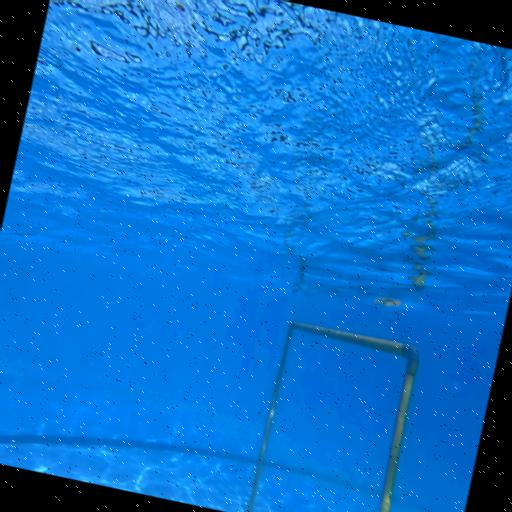gate: (244, 315, 424, 512)
